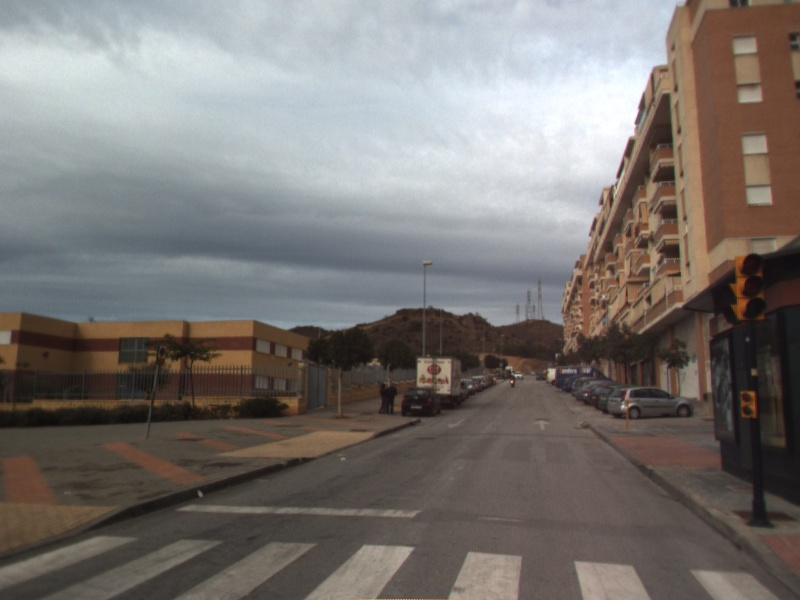STRAIGHT: (532, 418, 552, 432)
